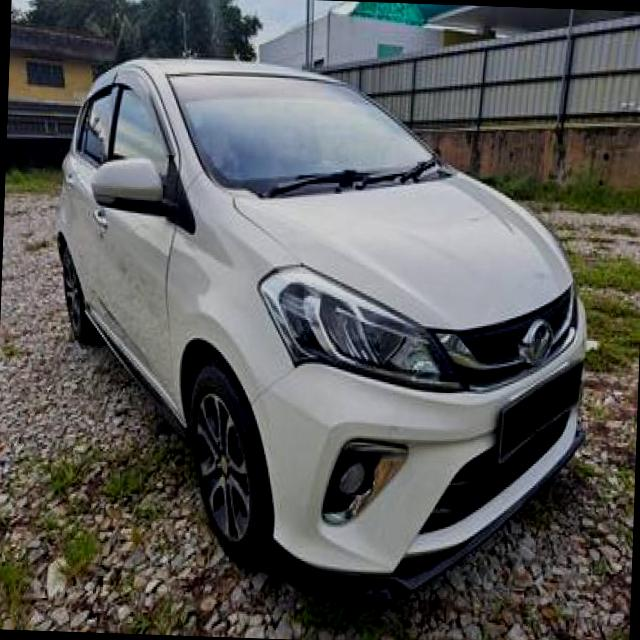PeroduaMyvi: (39, 48, 598, 610)
